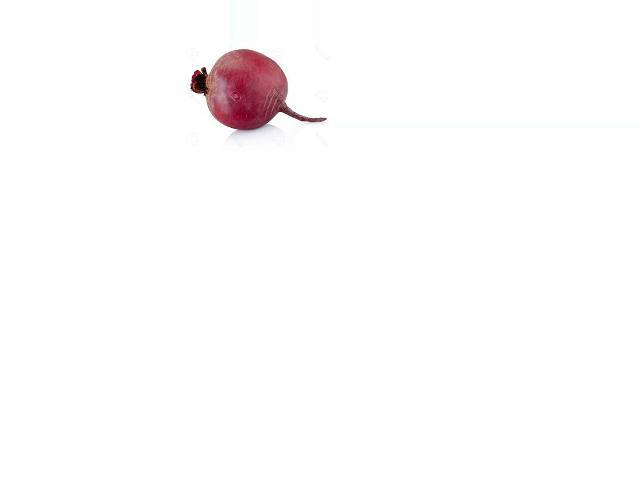beet: (191, 50, 326, 130)
